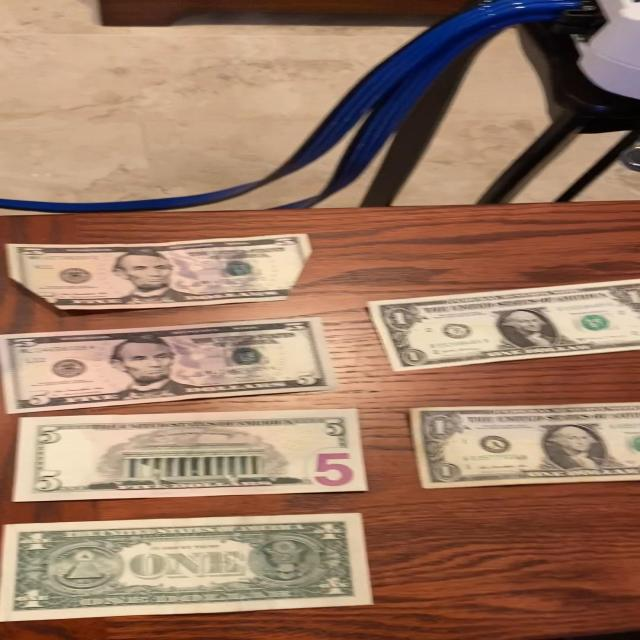1-Back: (0, 510, 375, 623)
1-Front: (362, 271, 640, 378), (406, 401, 640, 488)
5-Back: (8, 410, 366, 506)
5-Front: (0, 315, 331, 413), (0, 234, 317, 312)
